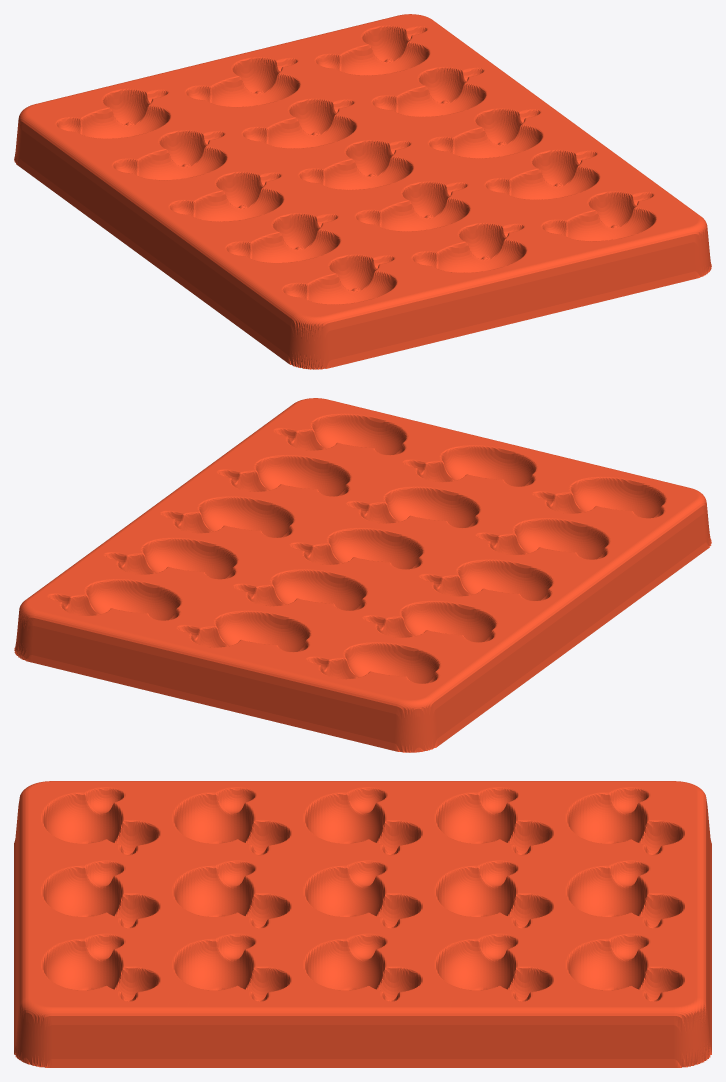
File: mold.glb
3 renders of one model, top to bottom at view 1: azimuth 30°, elevation 25°; view 2: azimuth 150°, elevation 25°; view 3: azimuth 270°, elevation 25°, orthographic. The views are drawn at different scales.
Visible parts, largest first — view 1: geometry_0; view 2: geometry_0; view 3: geometry_0.
Boxes of the visible parts, x1,y1,x2,y2 form: geometry_0: (14, 14, 711, 369); geometry_0: (14, 398, 711, 752); geometry_0: (14, 781, 711, 1067).
Size of the model in its own units: 0.1351 by 0.0145 by 0.1677.
